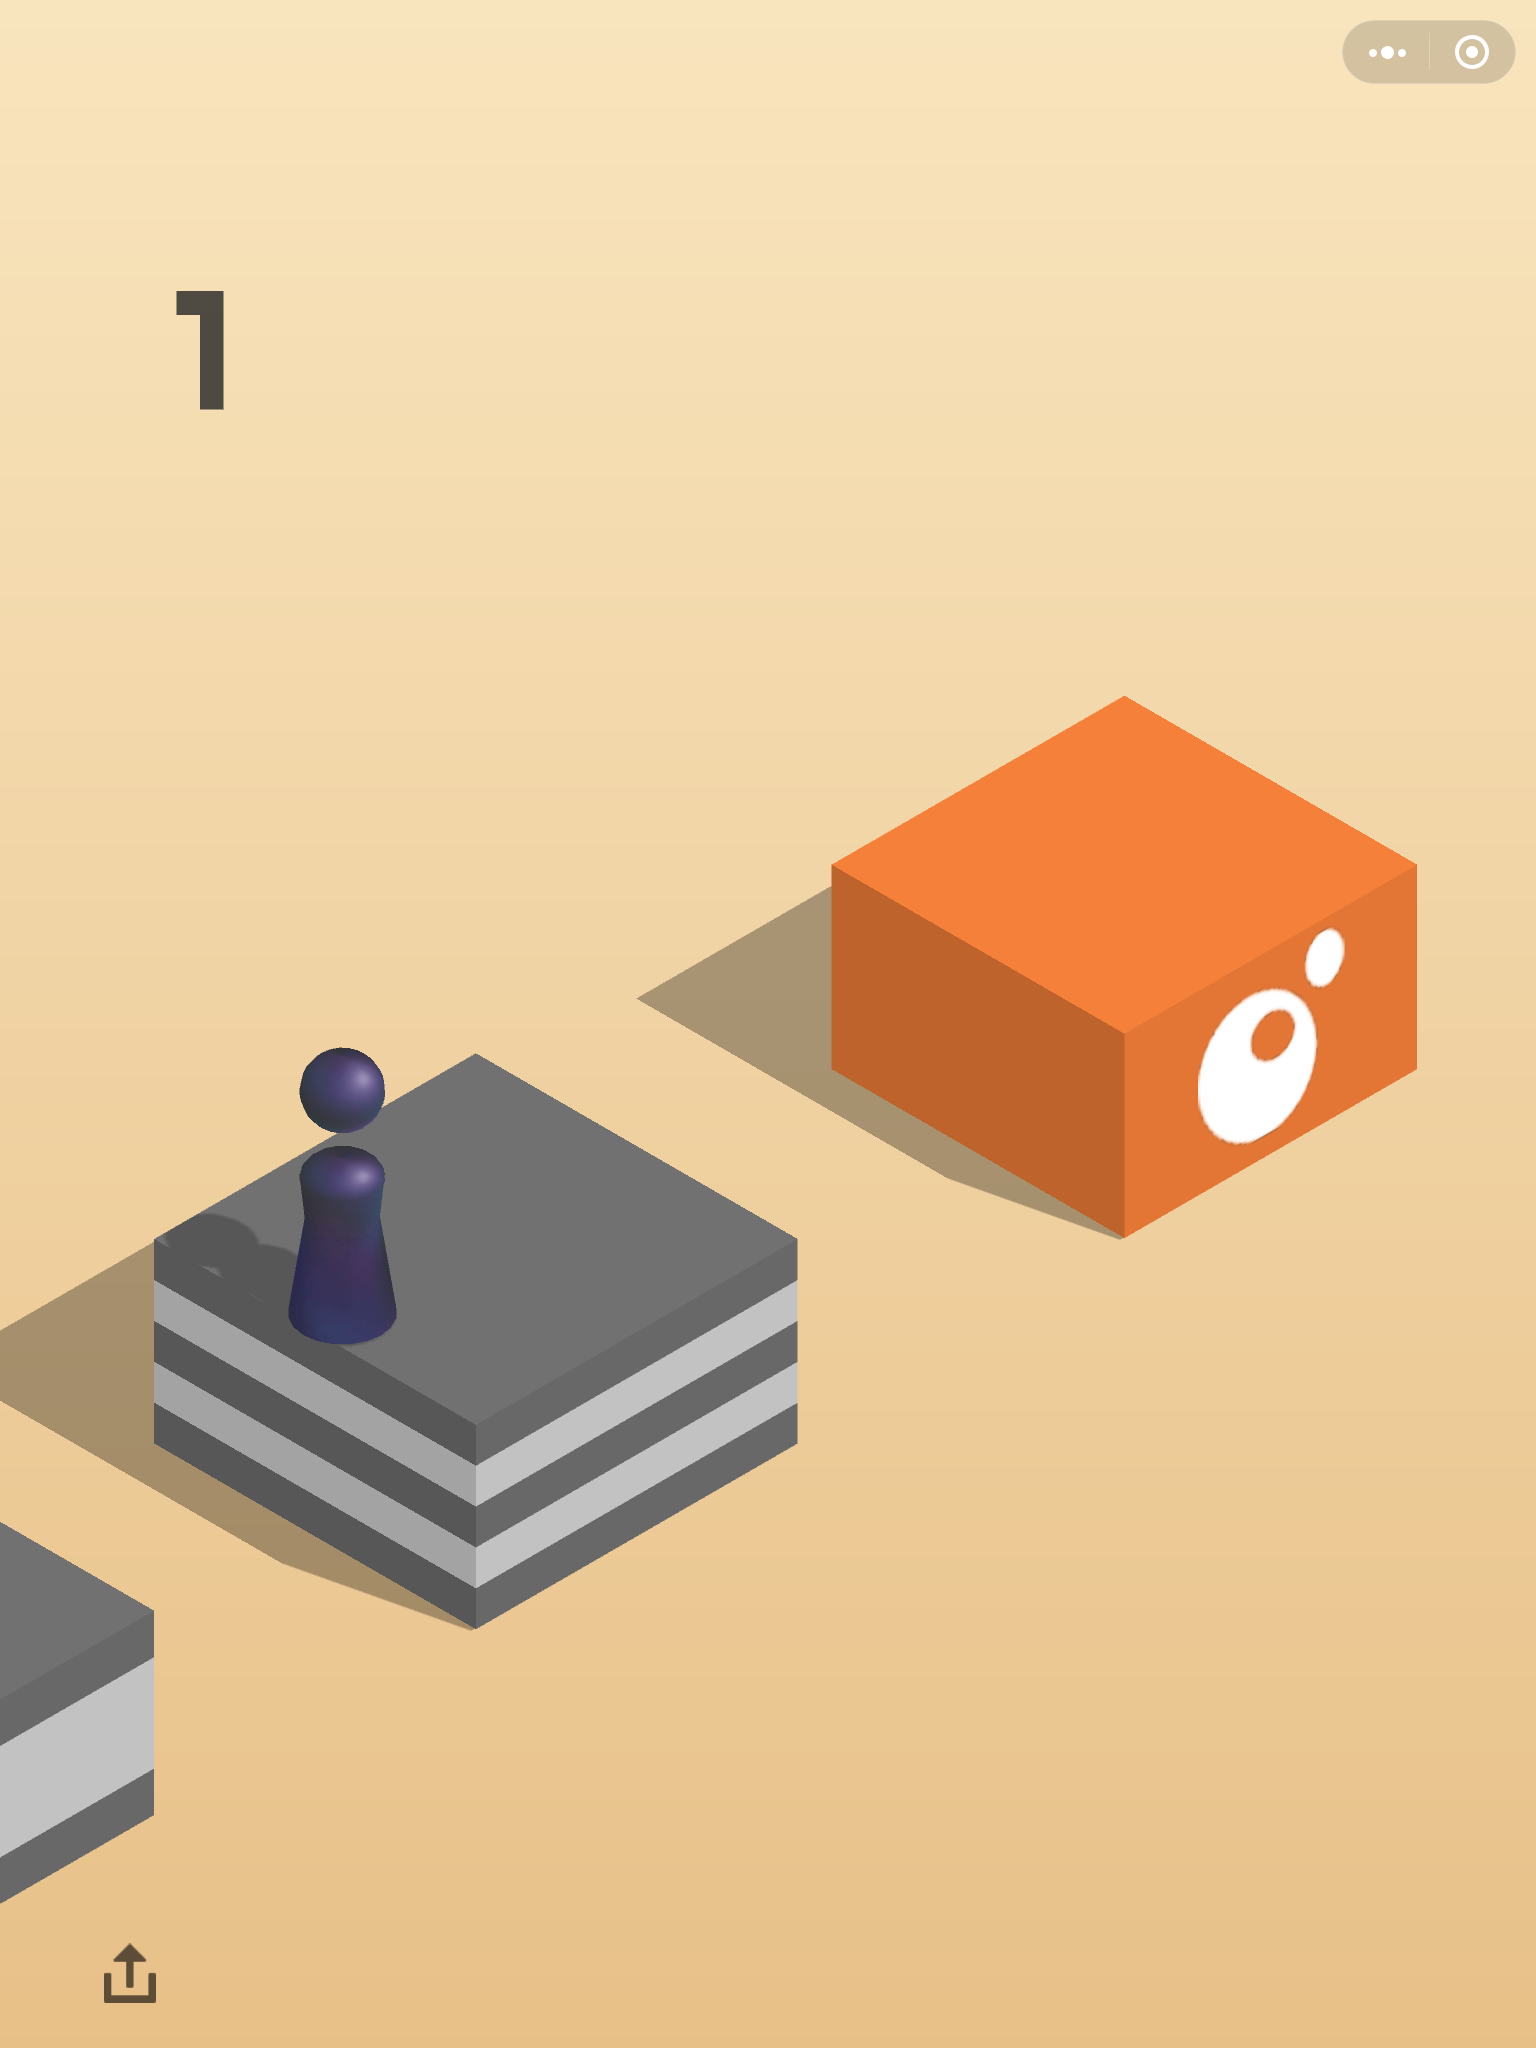f: (145, 1050, 810, 1650), (828, 685, 1421, 1251), (2, 1514, 157, 1909)
r: (279, 1039, 407, 1356)
